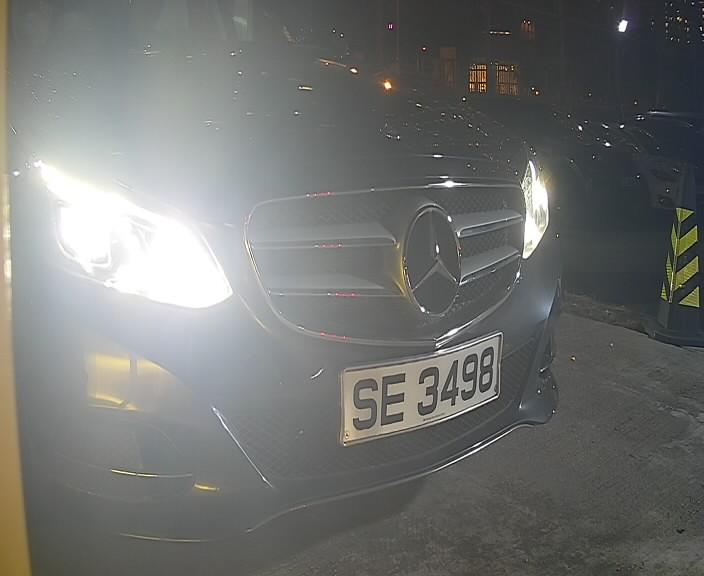License Plate: (334, 332, 507, 445)
